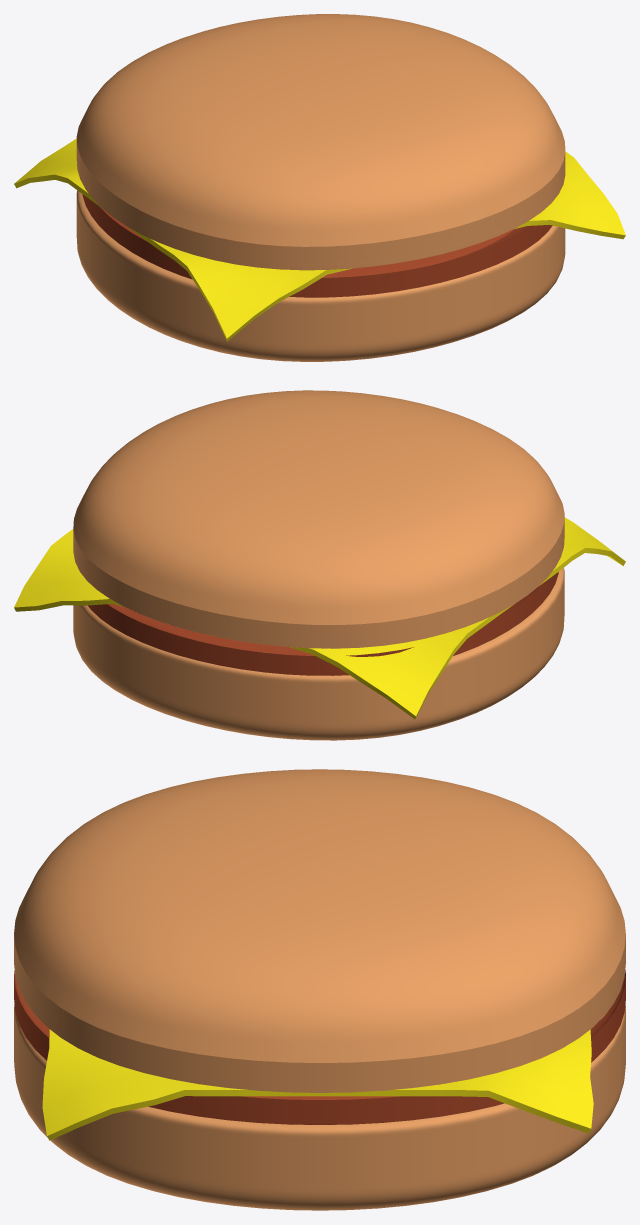
File: hamburger.glb
The picture shows the model from 3 angles, top to bottom: view 1: azimuth 30°, elevation 25°; view 2: azimuth 150°, elevation 25°; view 3: azimuth 270°, elevation 25°; orthographic projection. The views are drawn at different scales.
Visible parts, largest first — view 1: Cube.001, Cube, Plane, Cube.002; view 2: Cube.001, Cube, Plane, Cube.002; view 3: Cube.001, Cube, Plane, Cube.002.
Boxes of the visible parts, box(x1,y1,x2,y2) form: Cube.001: box(76, 14, 565, 270); Cube: box(76, 190, 565, 361); Plane: box(14, 138, 625, 341); Cube.002: box(82, 194, 552, 297); Cube.001: box(73, 390, 564, 648); Cube: box(73, 568, 564, 740); Plane: box(14, 517, 625, 719); Cube.002: box(88, 572, 558, 675); Cube.001: box(14, 769, 625, 1092); Cube: box(14, 1003, 625, 1210); Plane: box(42, 1029, 593, 1140); Cube.002: box(14, 970, 625, 1124).
Size of the model in its own units: 11.16 by 5.34 by 11.16.
